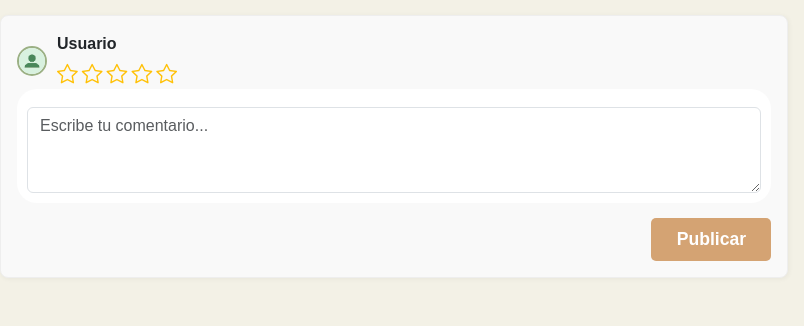
Test: RecetaComentario › muestra error si axios falla
Type "Comentario" into the text box with placeholder "Escribe tu comentario..." at [394, 150], box [27,107,762,193]
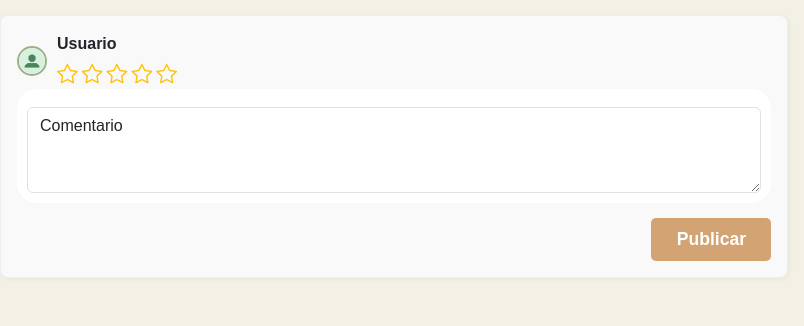
Click the icon with test id "star-5" at [167, 74], box [156,62,177,85]
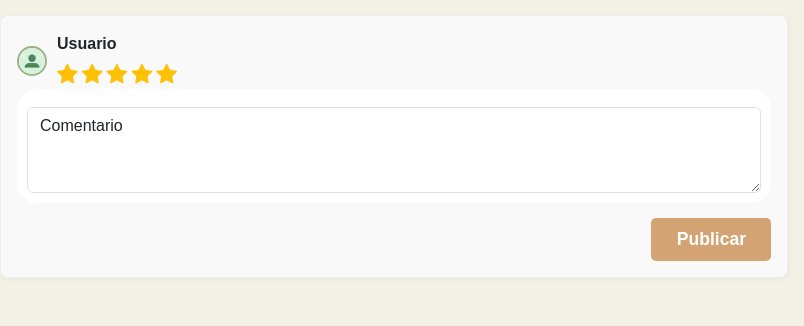
Click the button "Publicar" at [712, 239], box [652,218,772,261]
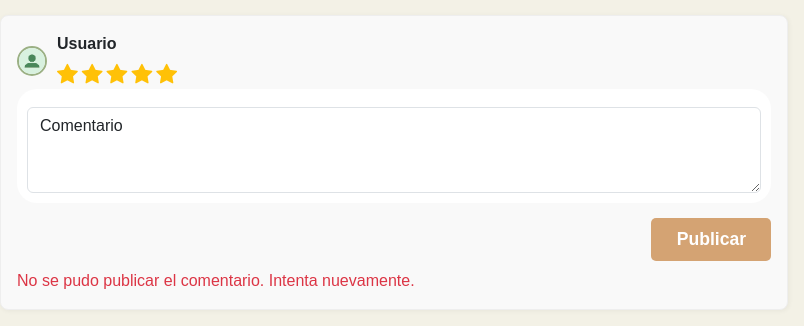
Now the text "No se pudo publicar el comentario. Intenta nuevamente." is shown, box [17,272,415,289]
